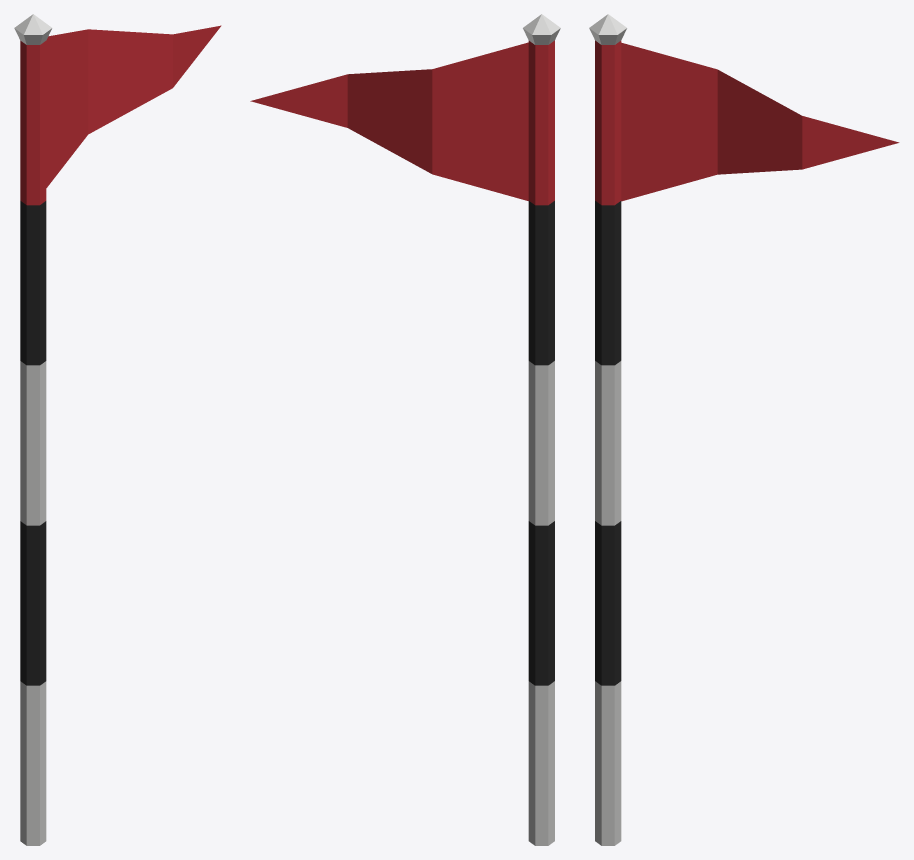
File: flag-golf_red.glb
The picture shows the model from 3 angles, left to right: view 1: azimuth 30°, elevation 25°; view 2: azimuth 150°, elevation 25°; view 3: azimuth 330°, elevation 25°; orthographic projection.
Visible parts, largest first — view 1: flag-golf_red; view 2: flag-golf_red; view 3: flag-golf_red.
Boxes of the visible parts, left/top/right/bottom form: flag-golf_red: left=14, top=14, right=221, bottom=845; flag-golf_red: left=250, top=14, right=560, bottom=845; flag-golf_red: left=589, top=14, right=899, bottom=845.
Bounding box in the file's own units: 0.6649 × 2.07 × 0.2771.
Materials: 1 (1 with a texture image).
